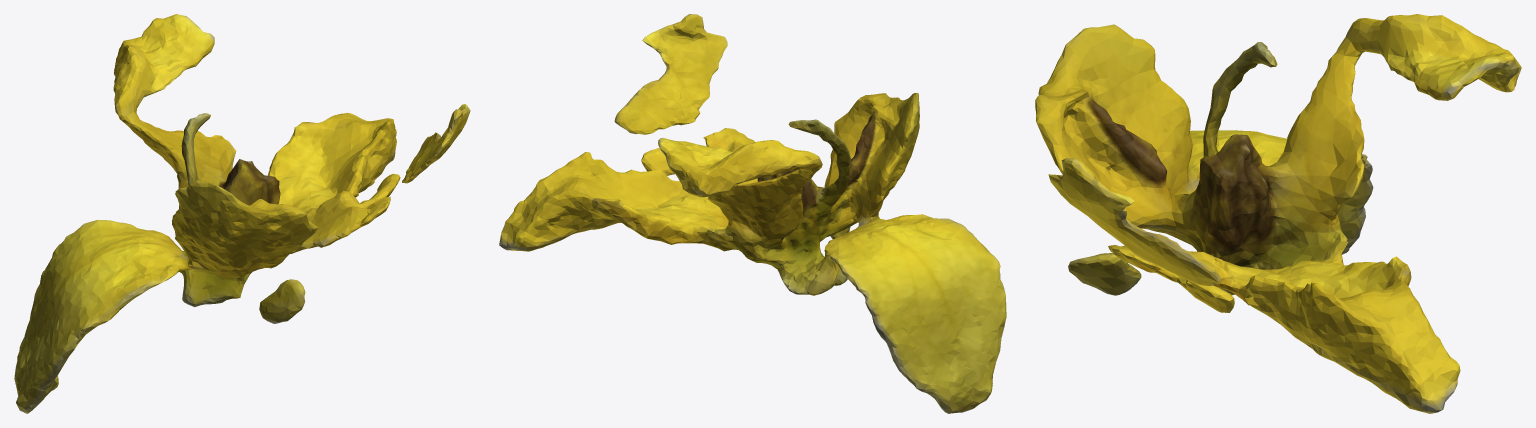
The model's file is ทรงบาดาล.glb.
3 views of the same model, side by side, from view 1: azimuth 30°, elevation 25°; view 2: azimuth 150°, elevation 25°; view 3: azimuth 270°, elevation 25° (orthographic). The views are drawn at different scales.
Parts seen in each view (by area): view 1: Mesh_0_Part_0; view 2: Mesh_0_Part_0; view 3: Mesh_0_Part_0.
Part boxes in pixels (<box>): Mesh_0_Part_0: <box>14,14,470,413</box>; Mesh_0_Part_0: <box>499,14,1006,413</box>; Mesh_0_Part_0: <box>1035,14,1521,413</box>.
Size of the model in its own units: 9.02 by 5.48 by 6.33.
1 material, 1 textured.
